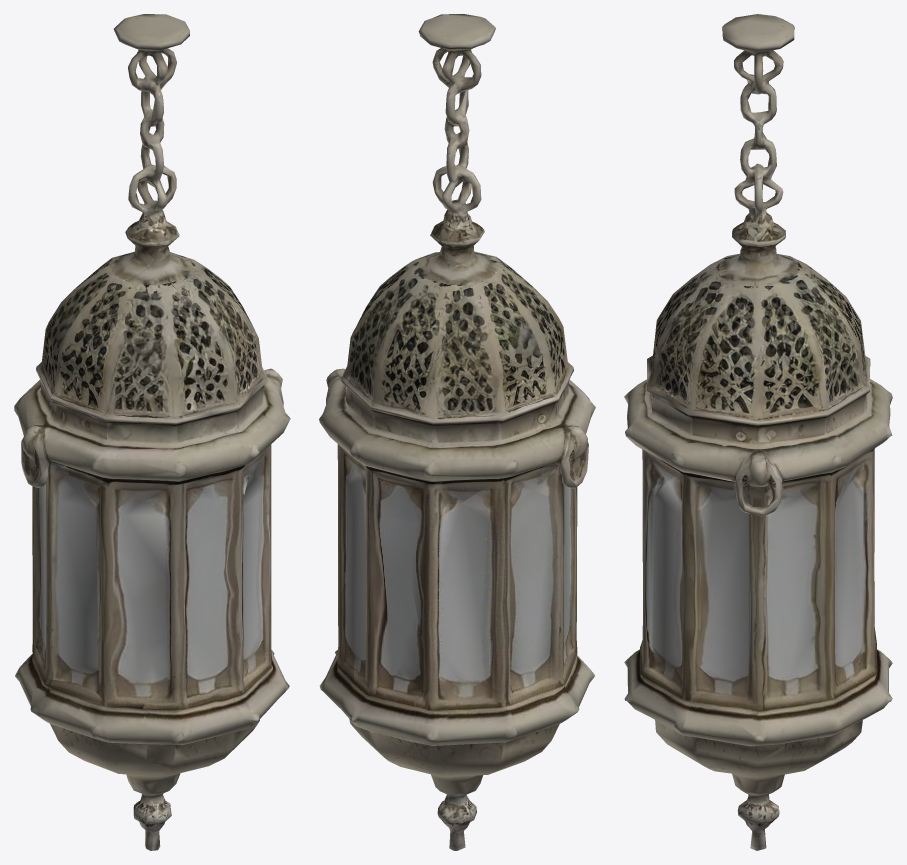
The model's file is hanging-lantern.glb.
3 renders of one model, left to right at view 1: azimuth 30°, elevation 25°; view 2: azimuth 150°, elevation 25°; view 3: azimuth 270°, elevation 25°, orthographic.
Parts seen in each view (by area): view 1: input; view 2: input; view 3: input.
Part boxes in pixels (bbox=[...]): input: bbox=[14, 14, 290, 850]; input: bbox=[319, 14, 595, 850]; input: bbox=[624, 14, 892, 850].
Bounding box in the file's own units: 0.1475 × 0.45 × 0.1337.
1 material, 1 textured.
